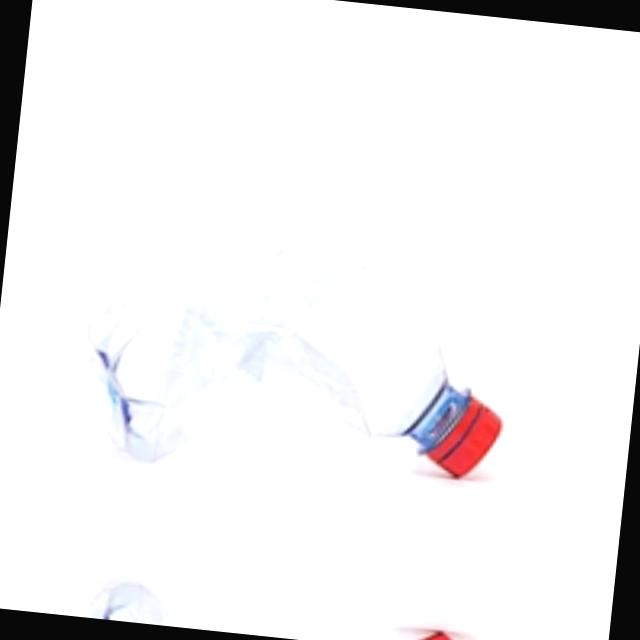Plastic: (52, 208, 554, 525), (37, 547, 518, 640)
